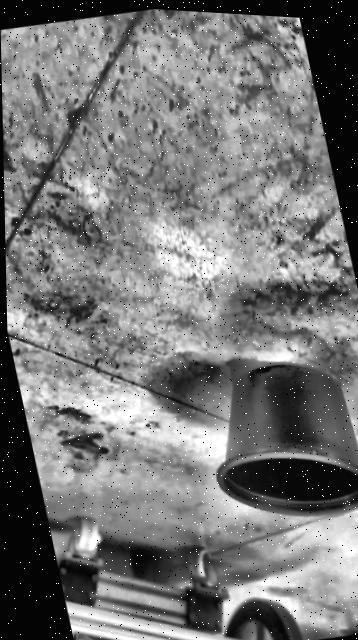pot: (192, 345, 358, 536)
